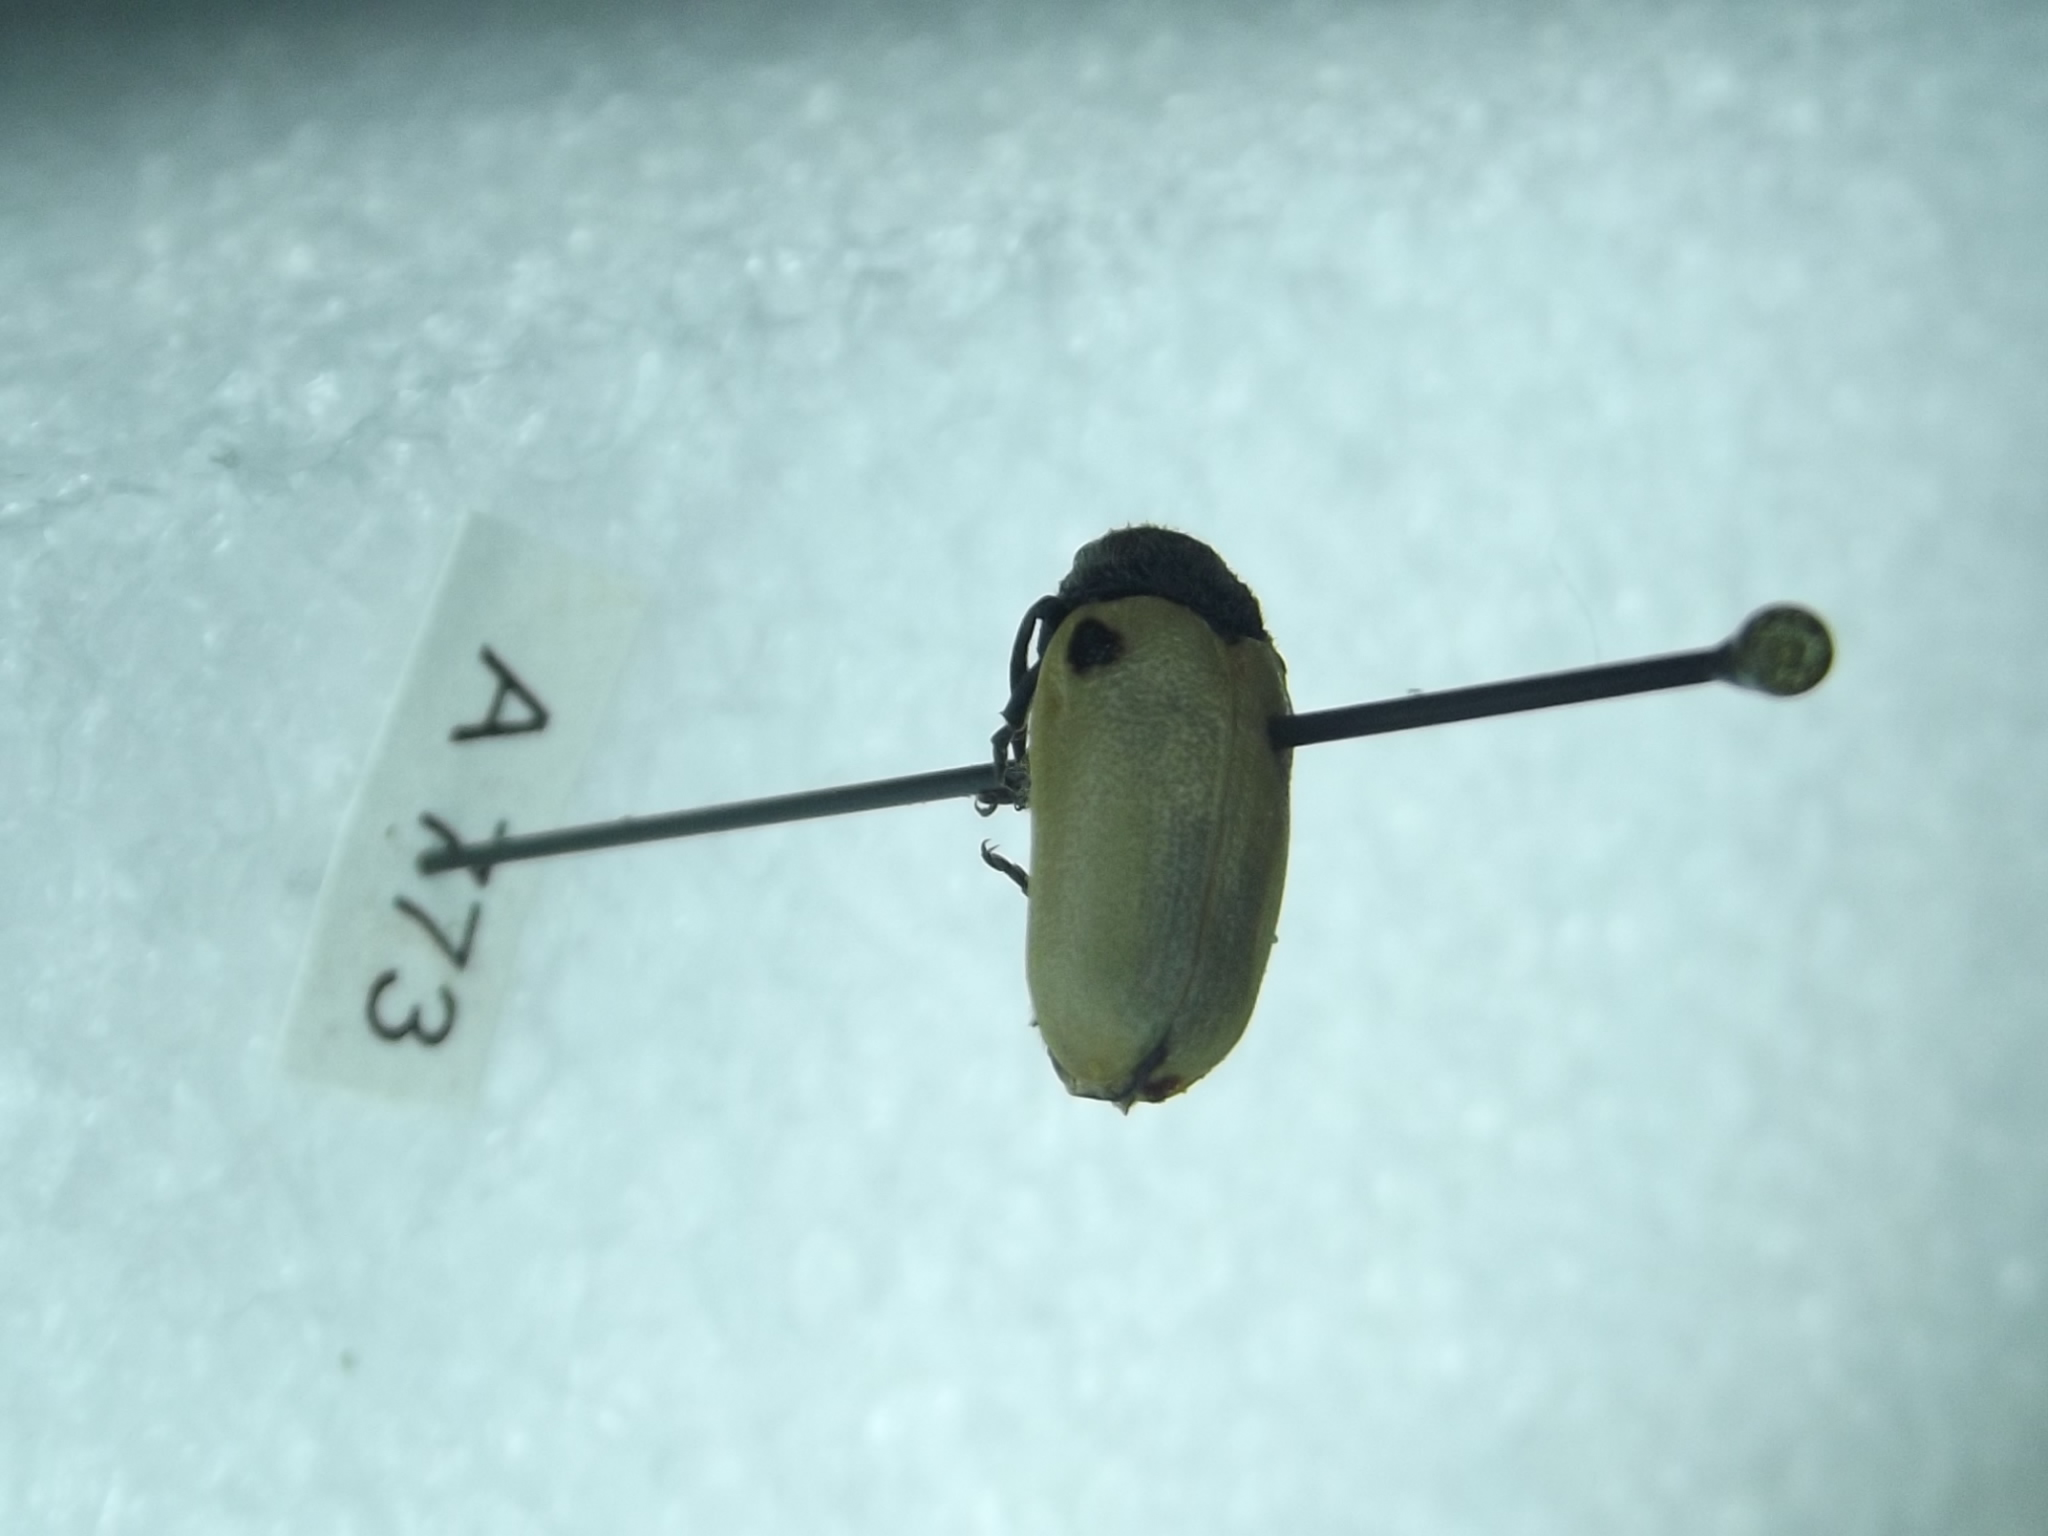Labidostomis_propinqua: (982, 502, 1303, 1115)
